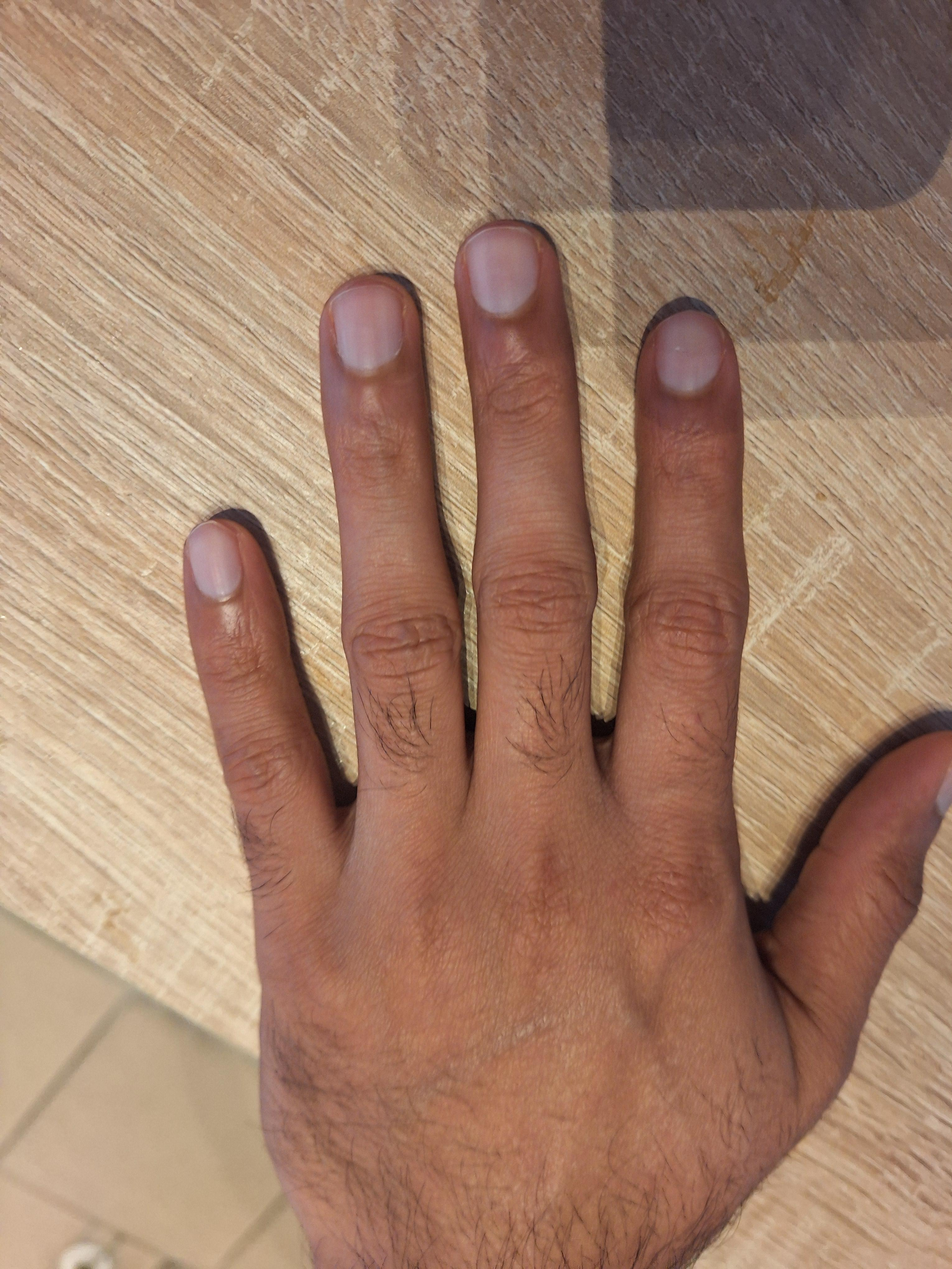Fingernail: (464, 227, 539, 314), (331, 286, 404, 370), (656, 310, 725, 391), (188, 521, 243, 599)
